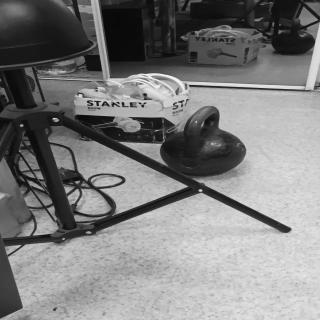girya: (161, 107, 247, 177)
